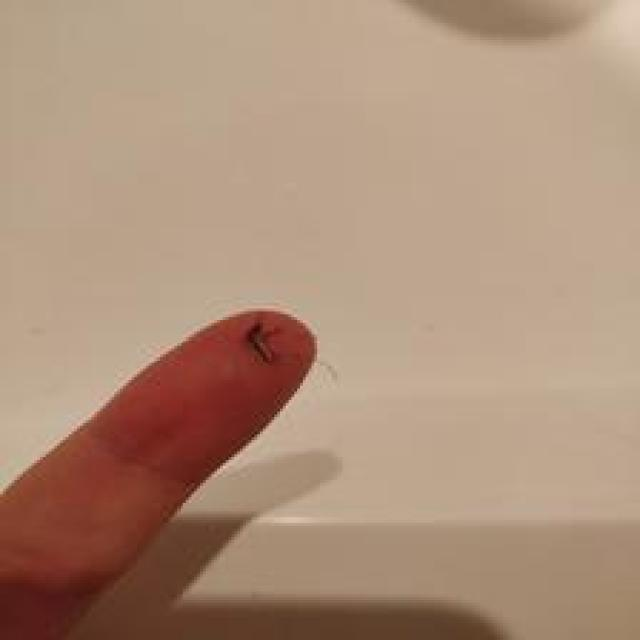Culex: (353, 0, 633, 43)
